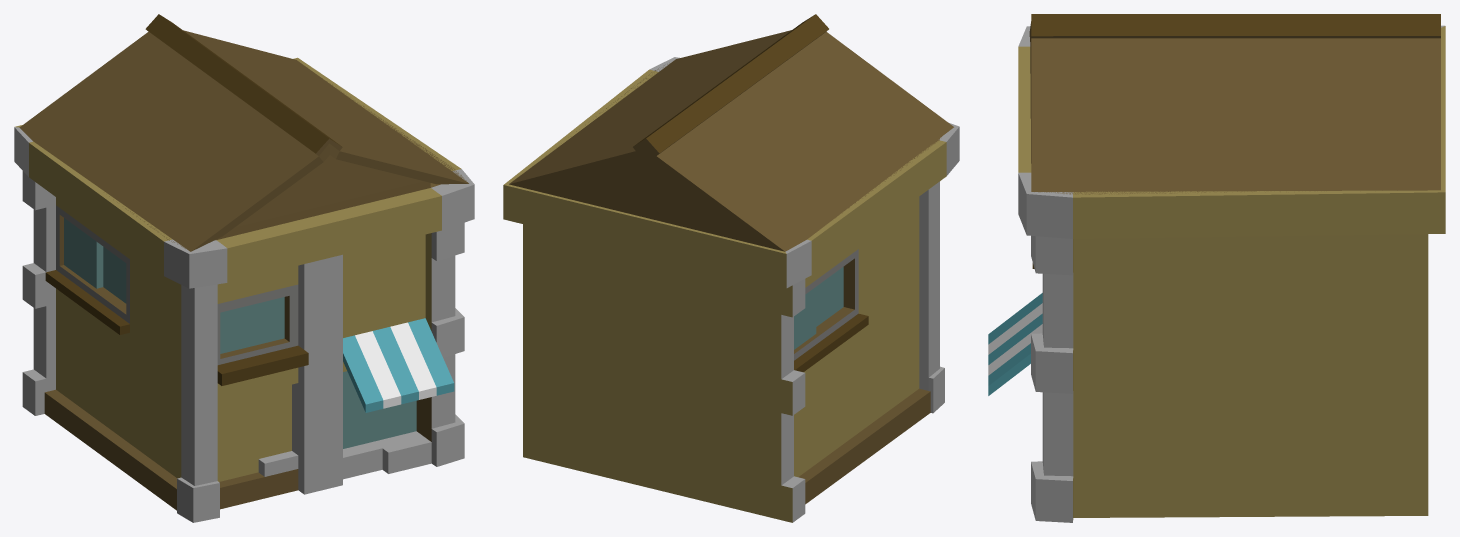
Rendered from Modelo Casinha 1.fbx.
The picture shows the model from 3 angles, left to right: view 1: azimuth 30°, elevation 25°; view 2: azimuth 150°, elevation 25°; view 3: azimuth 270°, elevation 25°; orthographic projection. The views are drawn at different scales.
Visible parts, largest first — view 1: Cube; view 2: Cube; view 3: Cube.
Boxes of the visible parts, <box> form: Cube: <box>14,14,474,522</box>; Cube: <box>503,14,959,522</box>; Cube: <box>988,14,1445,522</box>.
Size of the model in its own units: 233 by 265 by 258.
